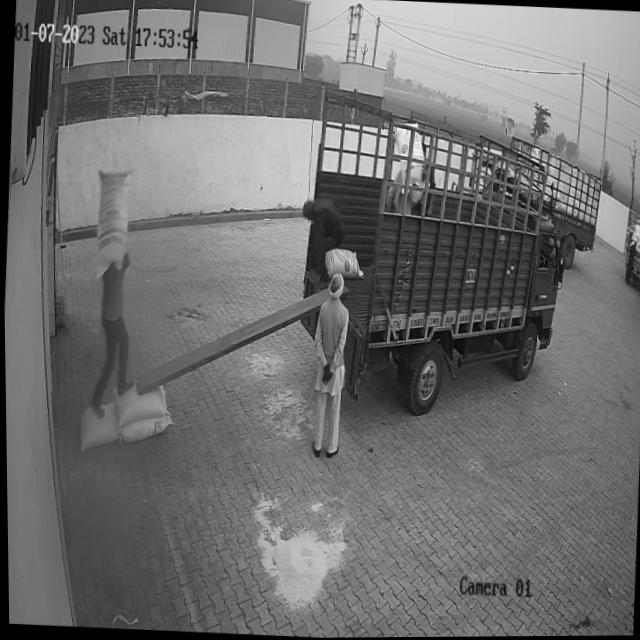sack: (91, 170, 134, 277), (114, 382, 166, 426), (76, 400, 120, 451), (120, 410, 171, 445), (323, 247, 364, 281)
